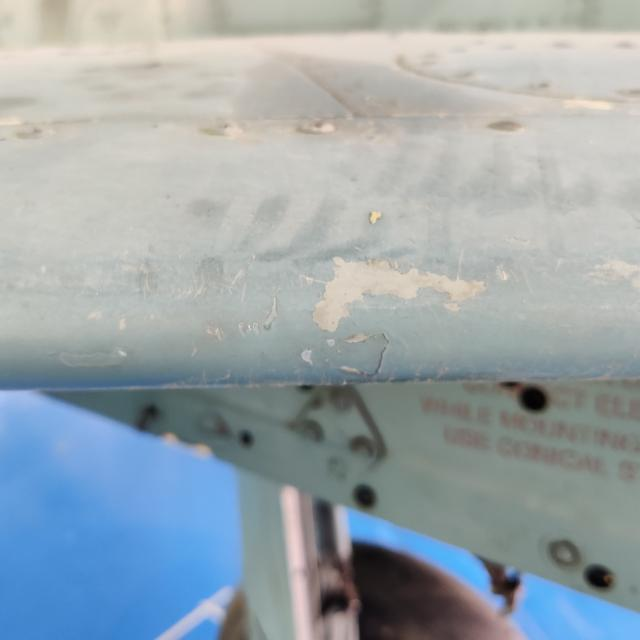paint-off: (306, 246, 493, 340)
